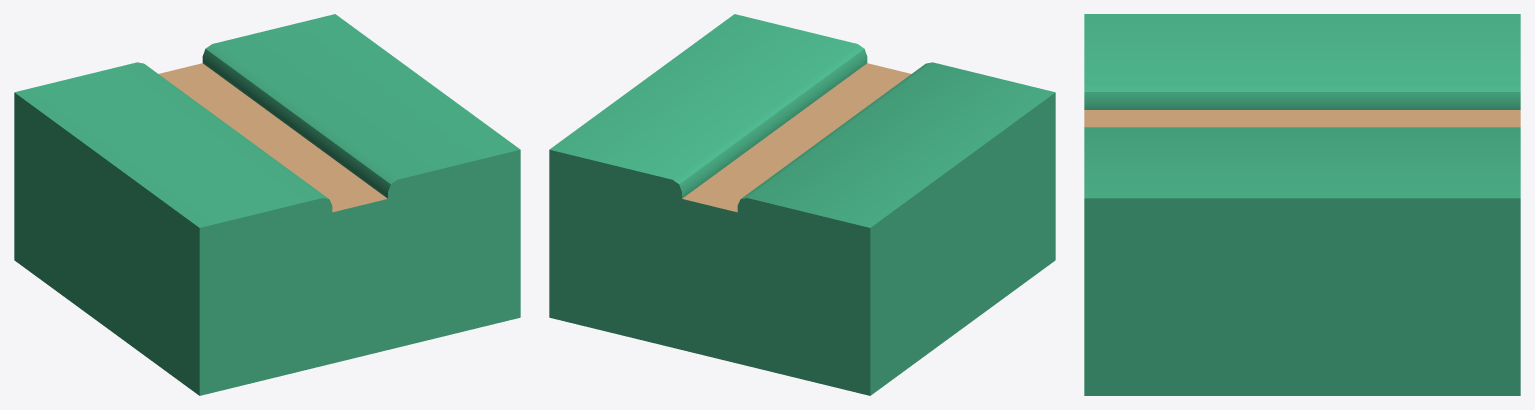
The model's file is square_forest_roadB.glb.
The picture shows the model from 3 angles, left to right: view 1: azimuth 30°, elevation 25°; view 2: azimuth 150°, elevation 25°; view 3: azimuth 270°, elevation 25°; orthographic projection. The views are drawn at different scales.
Visible parts, largest first — view 1: square_forest_roadB; view 2: square_forest_roadB; view 3: square_forest_roadB.
Part boxes in pixels (box(x1,y1,x2,y2)): square_forest_roadB: box(14, 14, 520, 395); square_forest_roadB: box(549, 14, 1055, 395); square_forest_roadB: box(1084, 14, 1520, 395).
Size of the model in its own units: 2 by 1 by 2.
